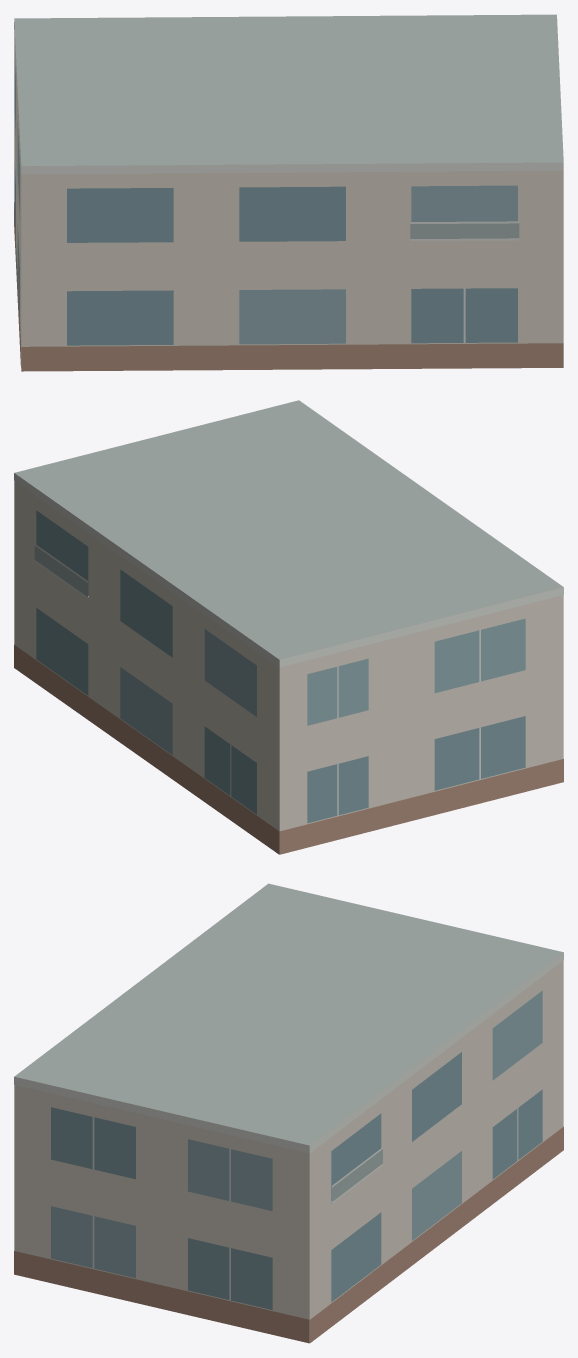
File: survey-upis-32948482.glb
3 renders of one model, top to bottom at view 1: azimuth 30°, elevation 25°; view 2: azimuth 150°, elevation 25°; view 3: azimuth 270°, elevation 25°, orthographic. The views are drawn at different scales.
Visible parts, largest first — view 1: survey-upis-32948482.tmp; view 2: survey-upis-32948482.tmp; view 3: survey-upis-32948482.tmp.
Boxes of the visible parts, box(x1,y1,x2,y2) form: survey-upis-32948482.tmp: box(14, 14, 563, 371); survey-upis-32948482.tmp: box(14, 400, 563, 854); survey-upis-32948482.tmp: box(14, 883, 563, 1343).
Size of the model in its own units: 17.34 by 6.1 by 15.37.
